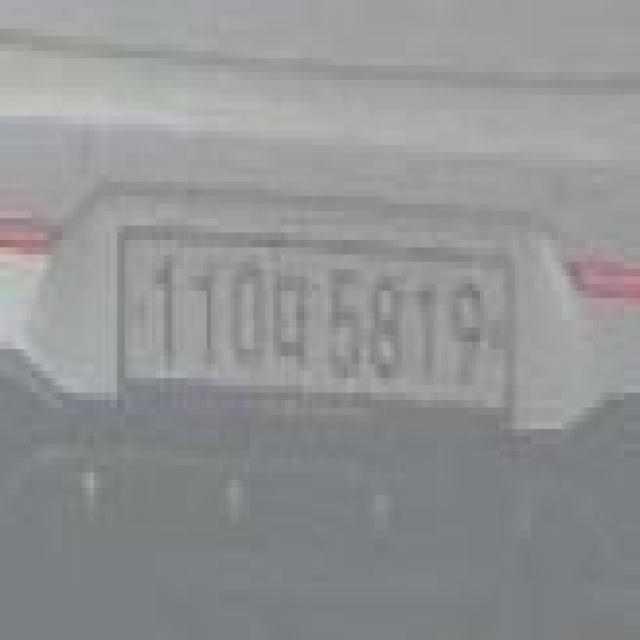illegal_plate: (110, 220, 518, 425)
